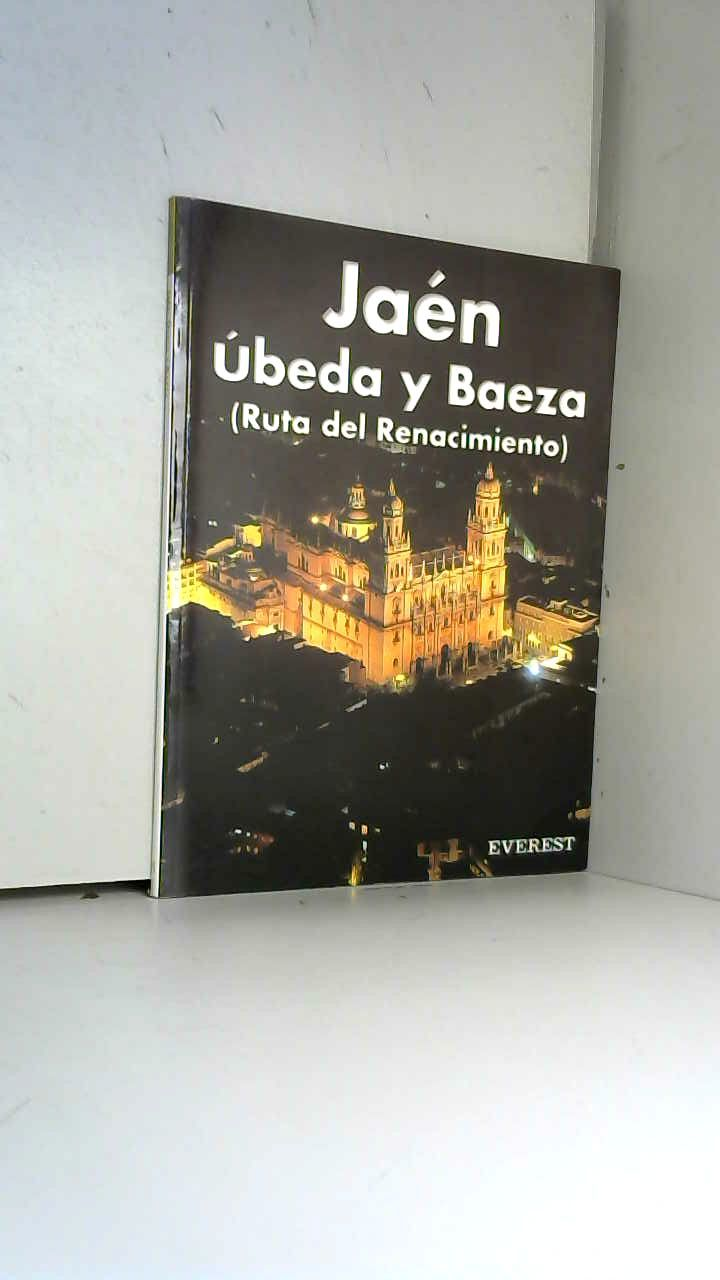book: (130, 170, 720, 920)
